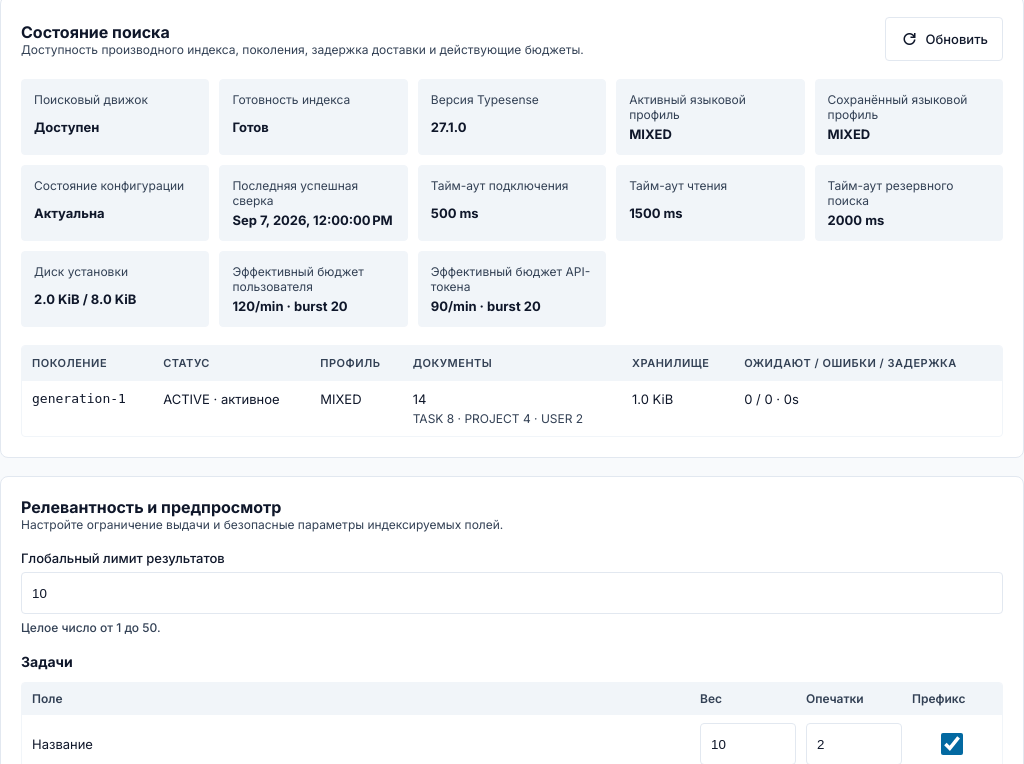
it: SearchSettingsComponent › gives a preview failure its own stable alert while a save alert remains visible
The image size is (1024, 764).
Replace the text in the number field with id "search-global-limit" with "14": (512,593) [21,572,1003,614]
(page scrolled)
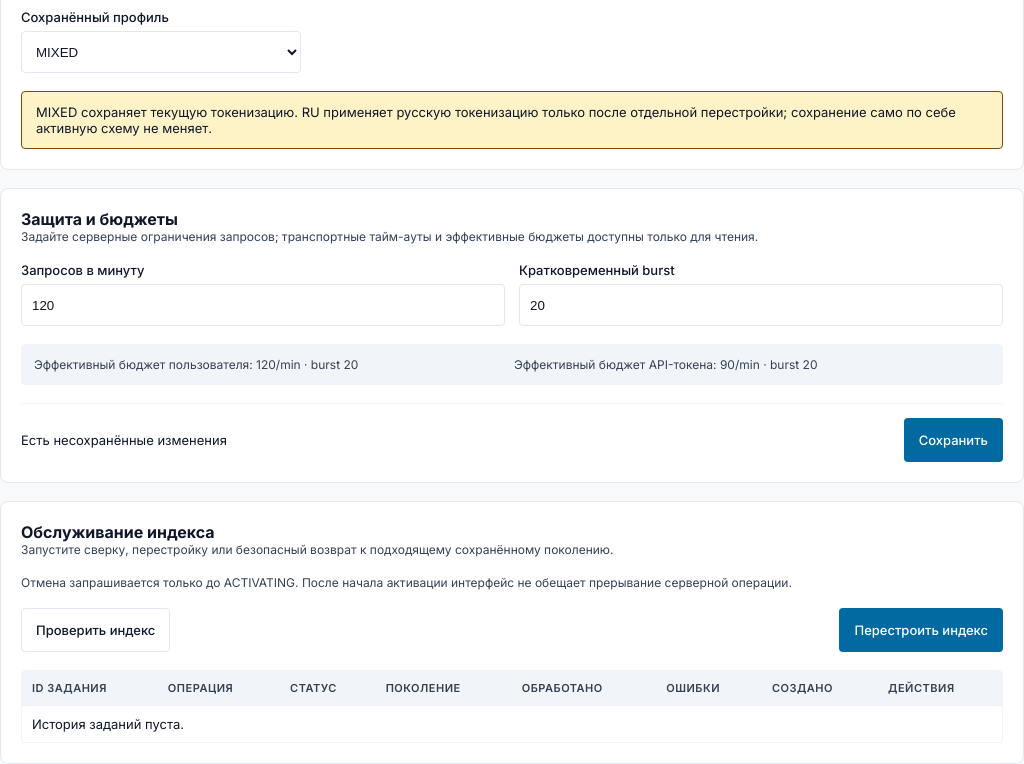
Click the button "Сохранить": (953,440) [904,418,1003,462]
(page scrolled)
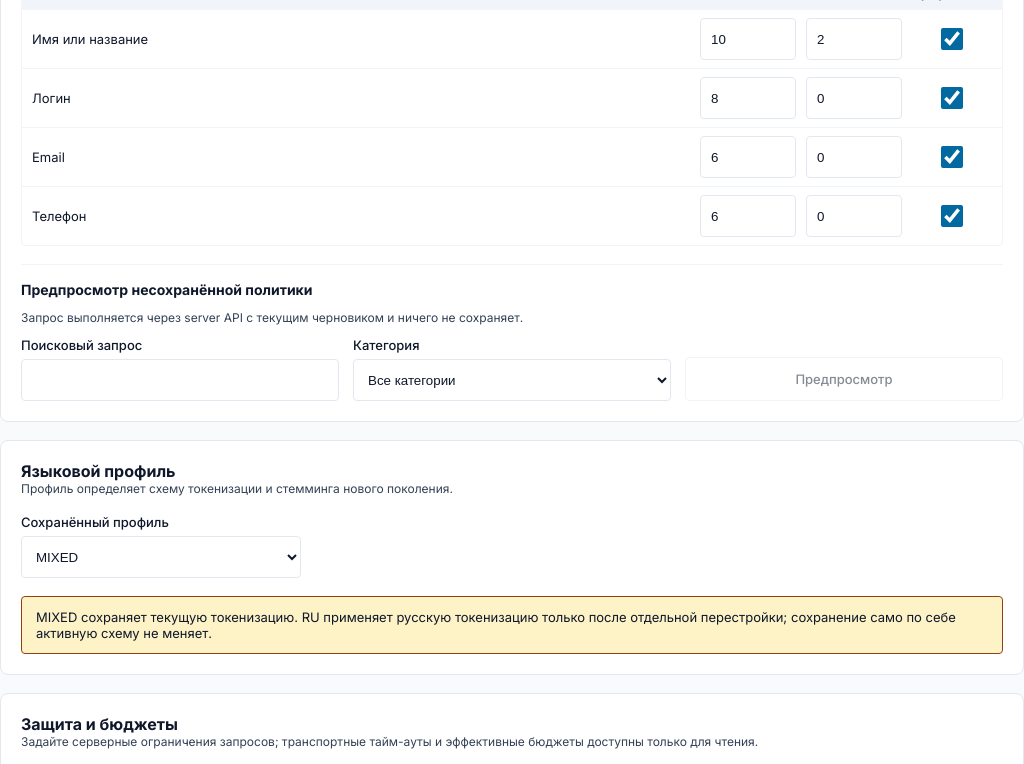
In the search field with id "search-preview-query": (180,380) [21,359,339,401], type "failing preview"
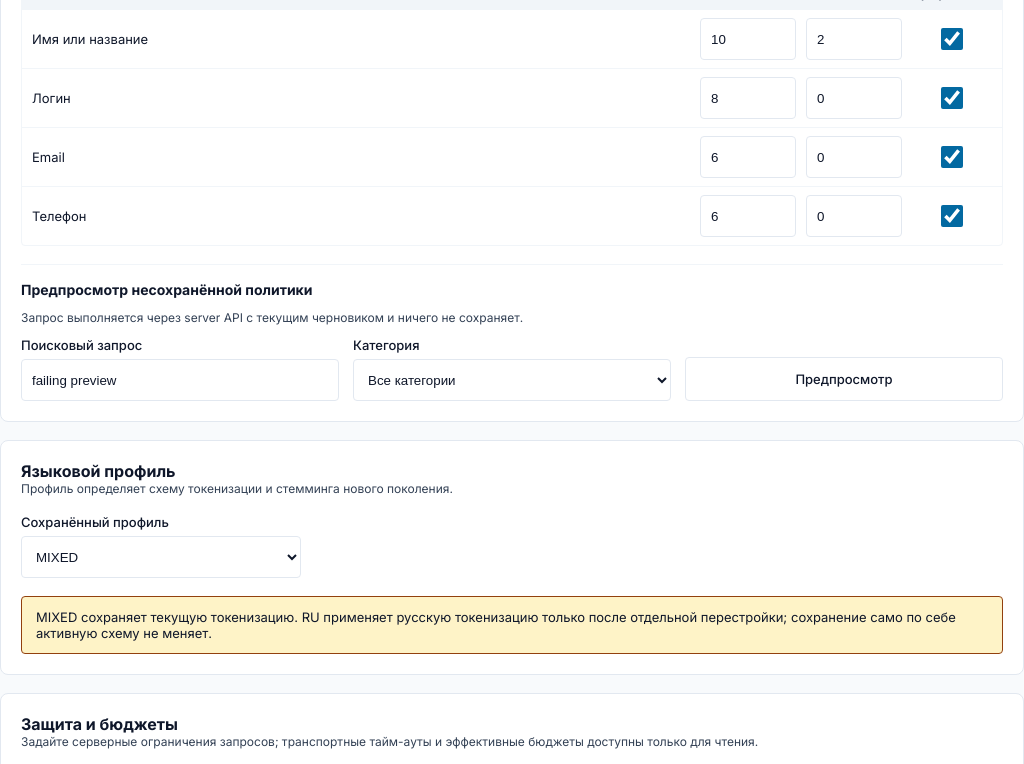
Click the button "Предпросмотр": (844,379) [685,357,1003,401]
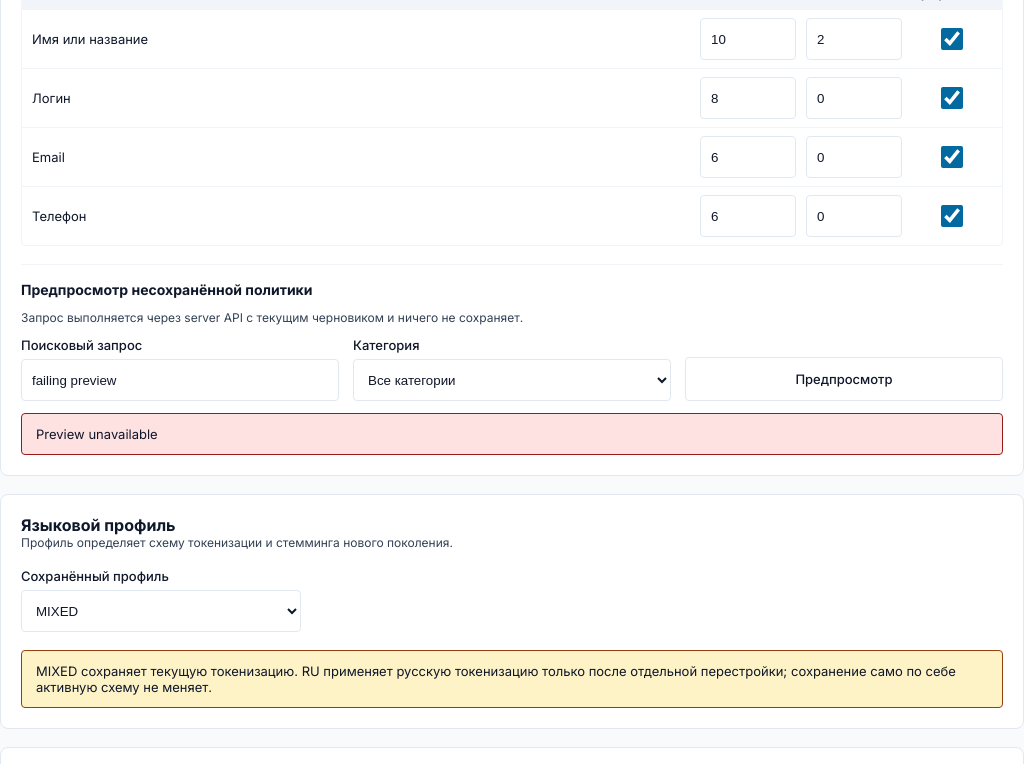
Expected: the message "Preview unavailable" is shown, [21,413,1003,455]
